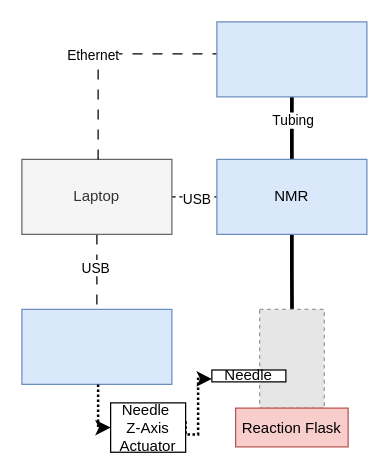
Some shapes in this 389 by 476 pixel diagram are drawn without their labels. Grey dashed boxes stand in for pictures. The shapes that lost their labels are listed below. From the top down, each one's centre as x and y in pixels, then its label:
point 291,59: Chemyx
point 96,346: Arduino
